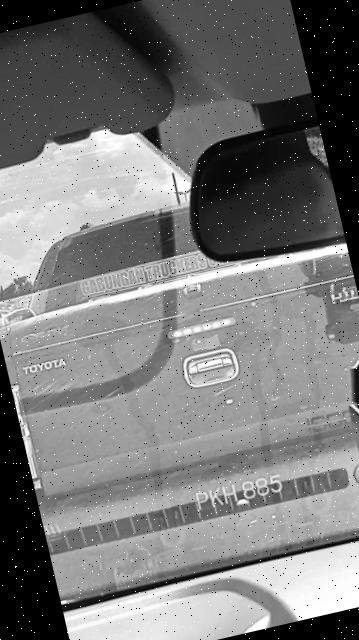License_Plate: (164, 457, 328, 534)
car: (1, 163, 359, 595)
